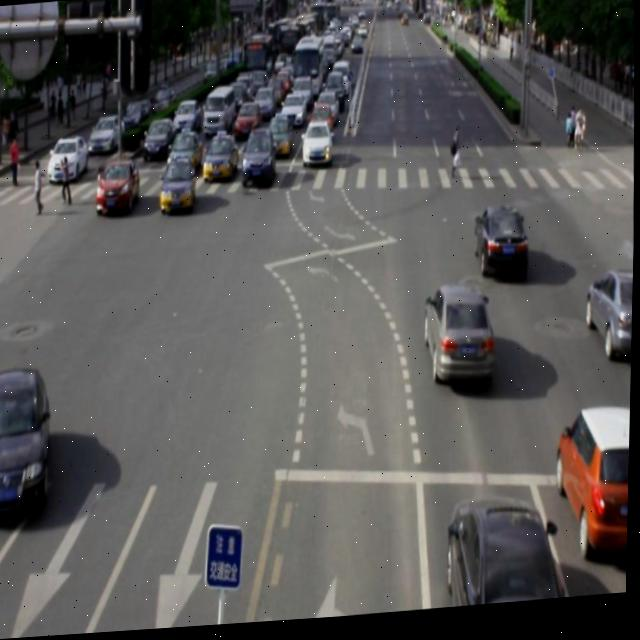car: (445, 493, 562, 613), (554, 409, 632, 570), (0, 365, 54, 519), (424, 286, 498, 391), (585, 274, 635, 368), (474, 207, 529, 286), (242, 127, 276, 187), (160, 157, 195, 214)
